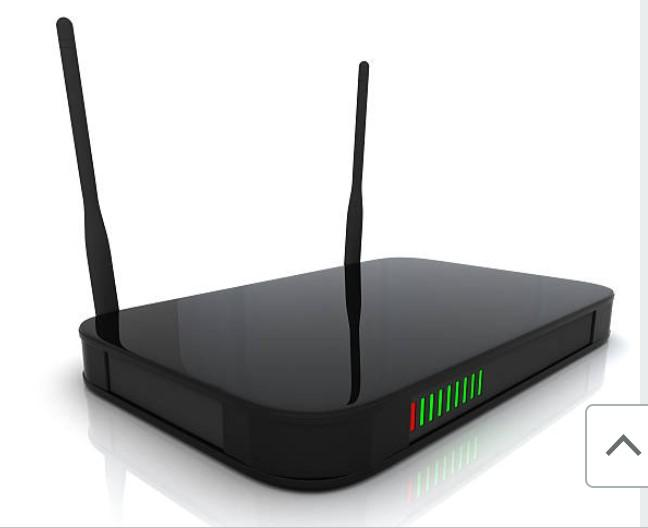Router: (57, 17, 617, 494)
